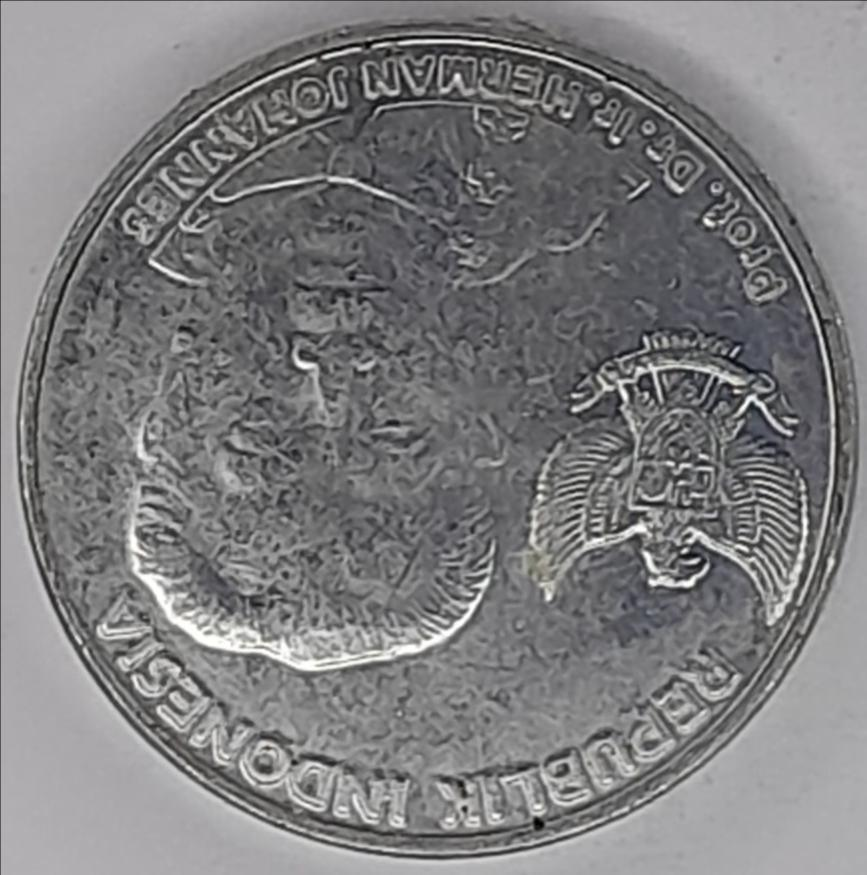coin_100_e2016: (11, 10, 864, 860)
